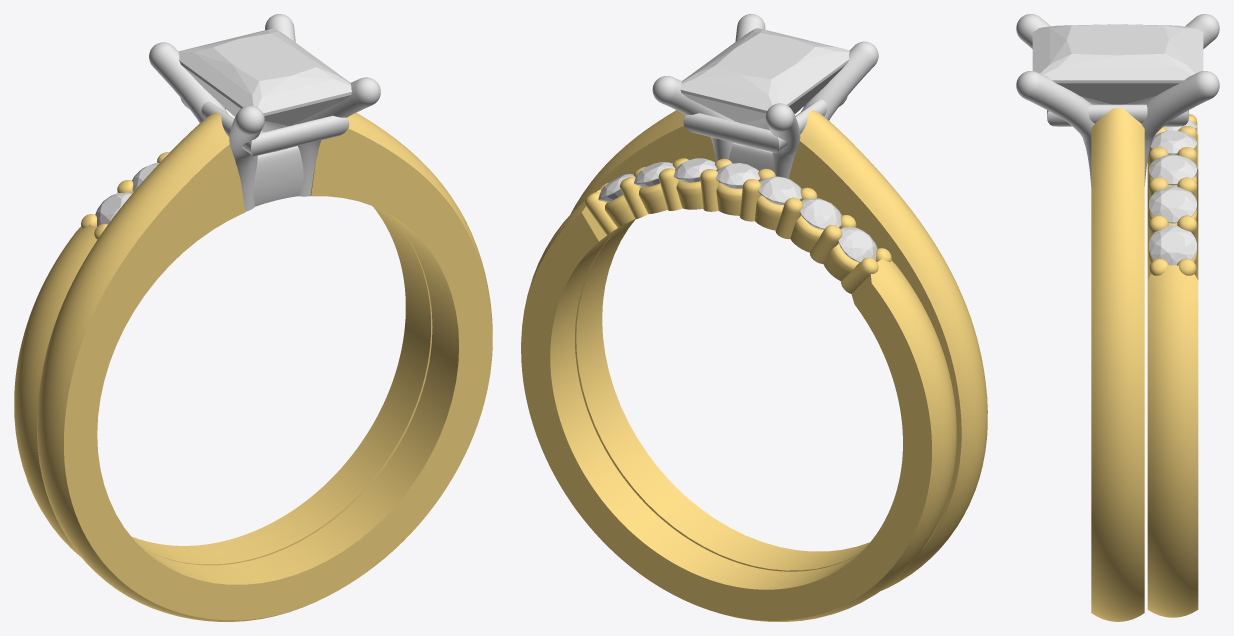
Rendered from Meredith_YG_eng,_wb_blender.glb.
3 renders of one model, left to right at view 1: azimuth 30°, elevation 25°; view 2: azimuth 150°, elevation 25°; view 3: azimuth 270°, elevation 25°, orthographic. The views are drawn at different scales.
Parts seen in each view (by area): view 1: Meredith eng , wb YG for 3d model, Meredith eng , wb PT for 3d model, Meredith eng , wb dia for 3d model.007; view 2: Meredith eng , wb YG for 3d model, Meredith eng , wb dia for 3d model.007, Meredith eng , wb PT for 3d model, Meredith eng , wb dia for 3d model.006, Meredith eng , wb dia for 3d model.005, Meredith eng , wb dia for 3d model.004, Meredith eng , wb dia for 3d model.003, Meredith eng , wb dia for 3d model.002; view 3: Meredith eng , wb YG for 3d model, Meredith eng , wb dia for 3d model.007, Meredith eng , wb PT for 3d model, Meredith eng , wb dia for 3d model, Meredith eng , wb dia for 3d model.001, Meredith eng , wb dia for 3d model.002, Meredith eng , wb dia for 3d model.003.
Part boxes in pixels (left/top/right/bottom): Meredith eng , wb YG for 3d model: left=14, top=112, right=492, bottom=621; Meredith eng , wb PT for 3d model: left=149, top=14, right=380, bottom=211; Meredith eng , wb dia for 3d model.007: left=178, top=28, right=352, bottom=131; Meredith eng , wb YG for 3d model: left=521, top=110, right=987, bottom=621; Meredith eng , wb dia for 3d model.007: left=680, top=28, right=849, bottom=128; Meredith eng , wb PT for 3d model: left=652, top=14, right=878, bottom=178; Meredith eng , wb dia for 3d model.006: left=838, top=227, right=877, bottom=262; Meredith eng , wb dia for 3d model.005: left=800, top=198, right=841, bottom=229; Meredith eng , wb dia for 3d model.004: left=758, top=176, right=801, bottom=204; Meredith eng , wb dia for 3d model.003: left=716, top=163, right=760, bottom=188; Meredith eng , wb dia for 3d model.002: left=673, top=158, right=717, bottom=182; Meredith eng , wb YG for 3d model: left=1091, top=108, right=1198, bottom=621; Meredith eng , wb dia for 3d model.007: left=1032, top=24, right=1203, bottom=104; Meredith eng , wb PT for 3d model: left=1016, top=14, right=1219, bottom=186; Meredith eng , wb dia for 3d model: left=1149, top=225, right=1196, bottom=265; Meredith eng , wb dia for 3d model.001: left=1149, top=186, right=1196, bottom=223; Meredith eng , wb dia for 3d model.002: left=1149, top=154, right=1196, bottom=185; Meredith eng , wb dia for 3d model.003: left=1150, top=130, right=1196, bottom=154.
Bounding box in the file's own units: 19.27 × 23.04 × 7.59.
